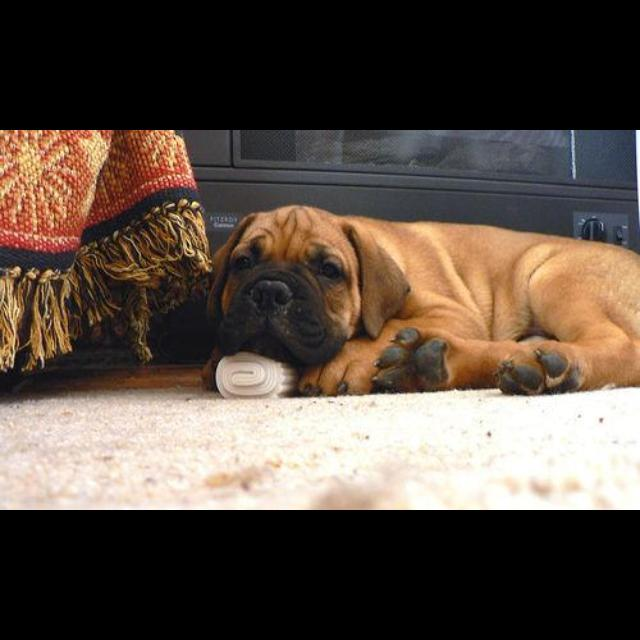bullmastiff: (203, 204, 640, 398)
